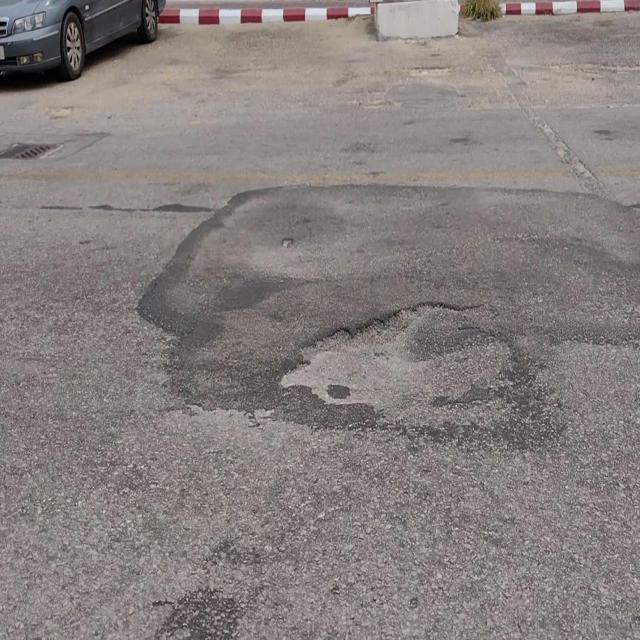Potholes: (275, 298, 512, 422)
